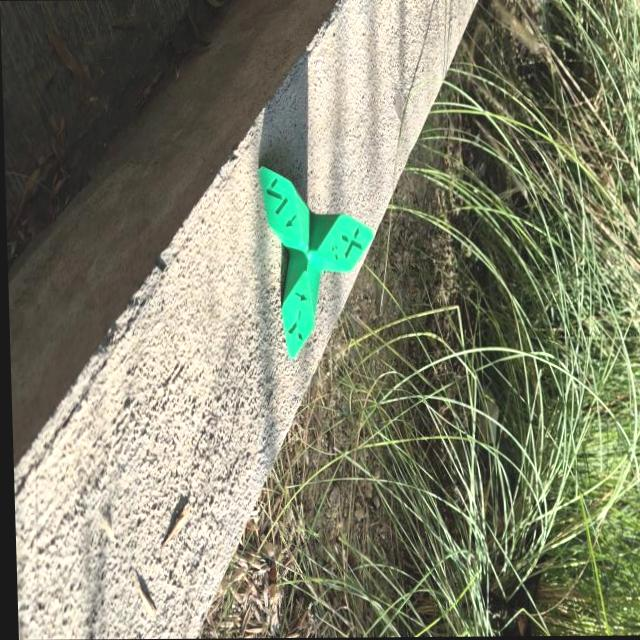eje: (256, 162, 378, 362)
